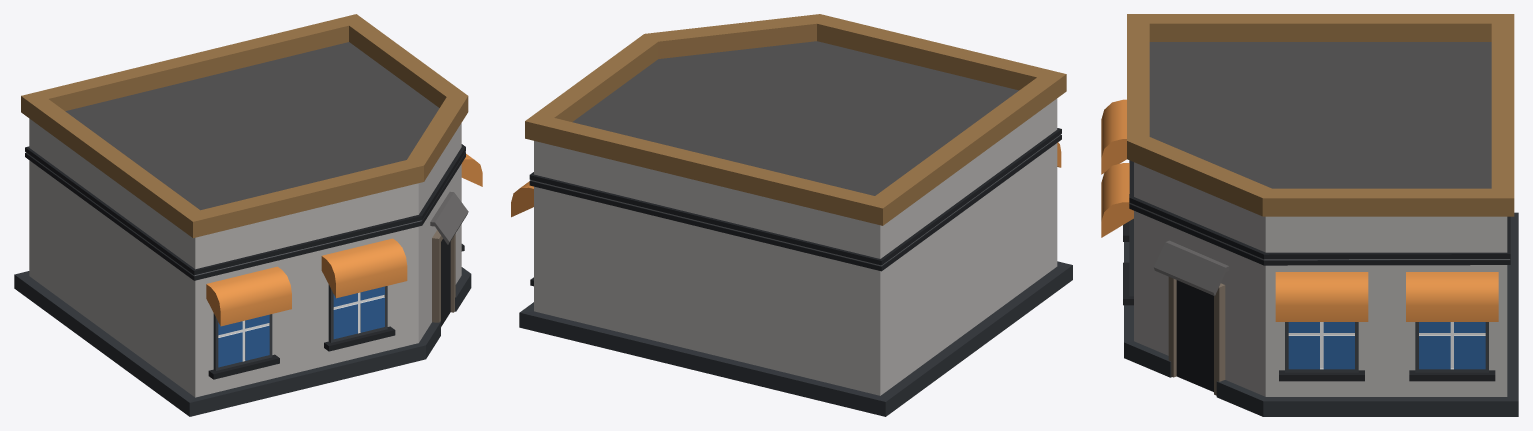
The model's file is Shop_2.fbx.
3 views of the same model, side by side, from view 1: azimuth 30°, elevation 25°; view 2: azimuth 150°, elevation 25°; view 3: azimuth 270°, elevation 25° (orthographic). The views are drawn at different scales.
Visible parts, largest first — view 1: Shop_2; view 2: Shop_2; view 3: Shop_2.
Part boxes in pixels (bbox=[...]): Shop_2: bbox=[14, 14, 482, 416]; Shop_2: bbox=[511, 14, 1072, 416]; Shop_2: bbox=[1101, 14, 1518, 416].
Bounding box in the file's own units: 1082 × 554 × 965.
